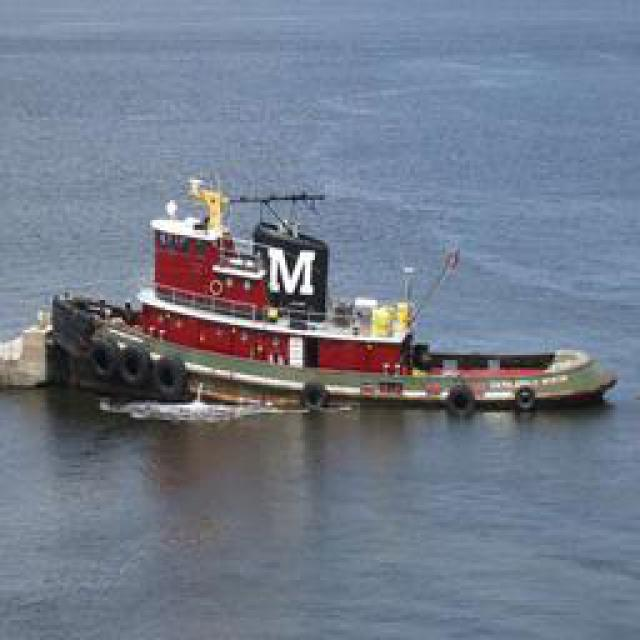Ship: (39, 172, 614, 420)
